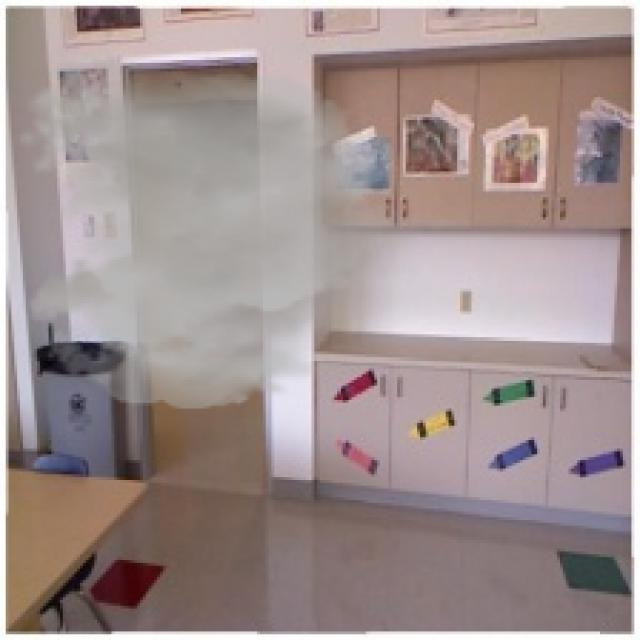smoke: (14, 57, 434, 409)
